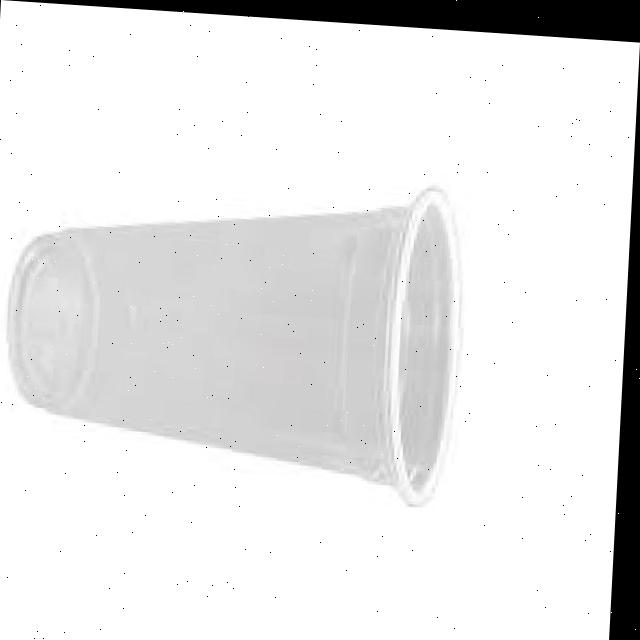cup: (12, 182, 463, 499)
